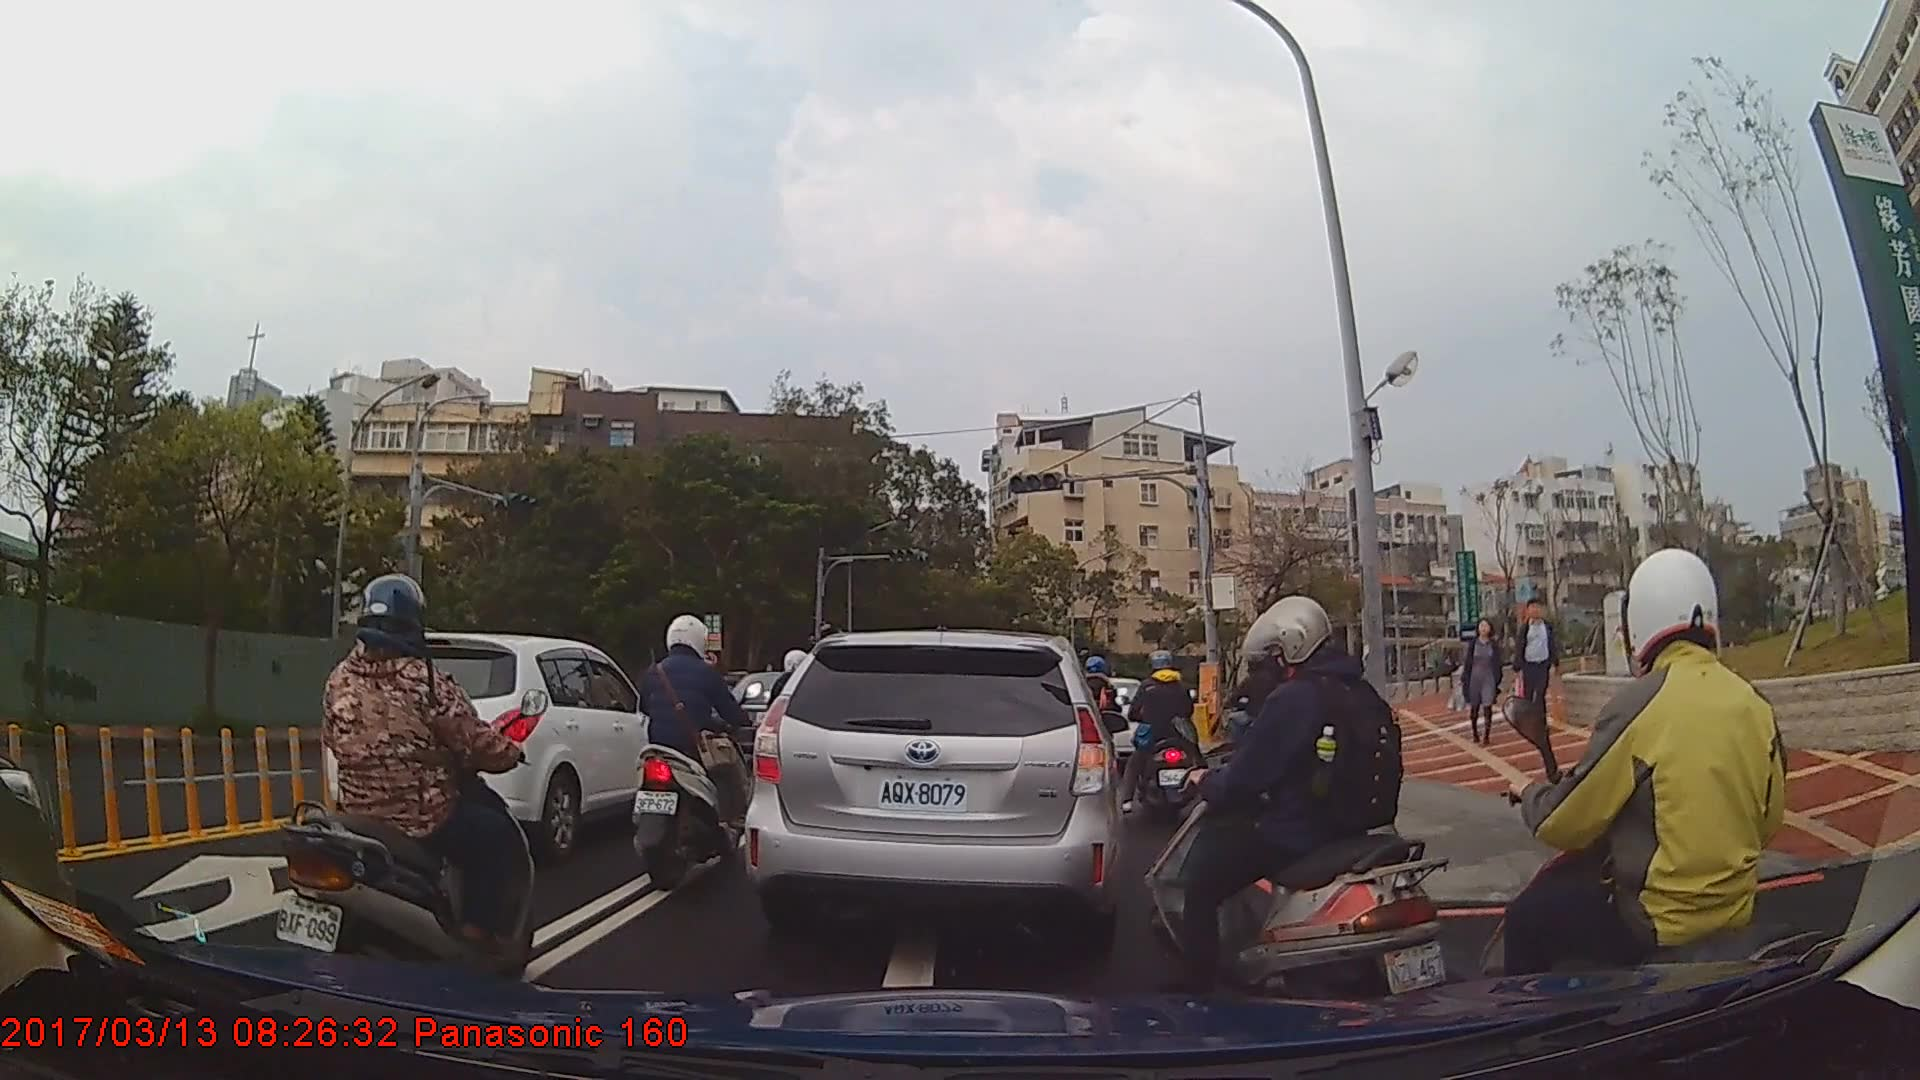pedestrian: (1516, 597, 1562, 748), (1456, 616, 1504, 746)
rider: (1482, 548, 1818, 1069), (1145, 599, 1453, 1017), (272, 572, 543, 999), (631, 614, 766, 892), (1118, 646, 1217, 836)
vehicle: (742, 629, 1123, 948), (328, 632, 680, 857)
